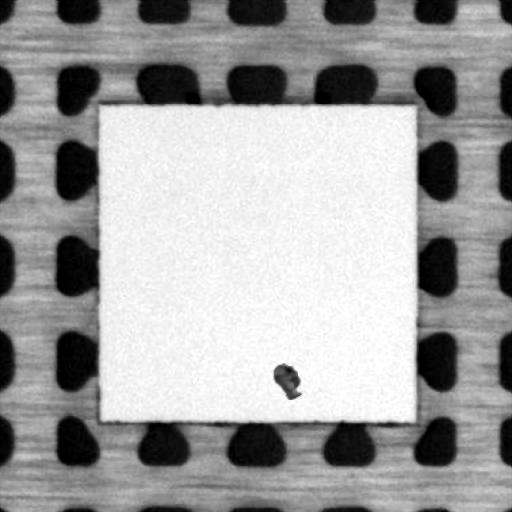DIE_INK: (266, 358, 304, 404)
